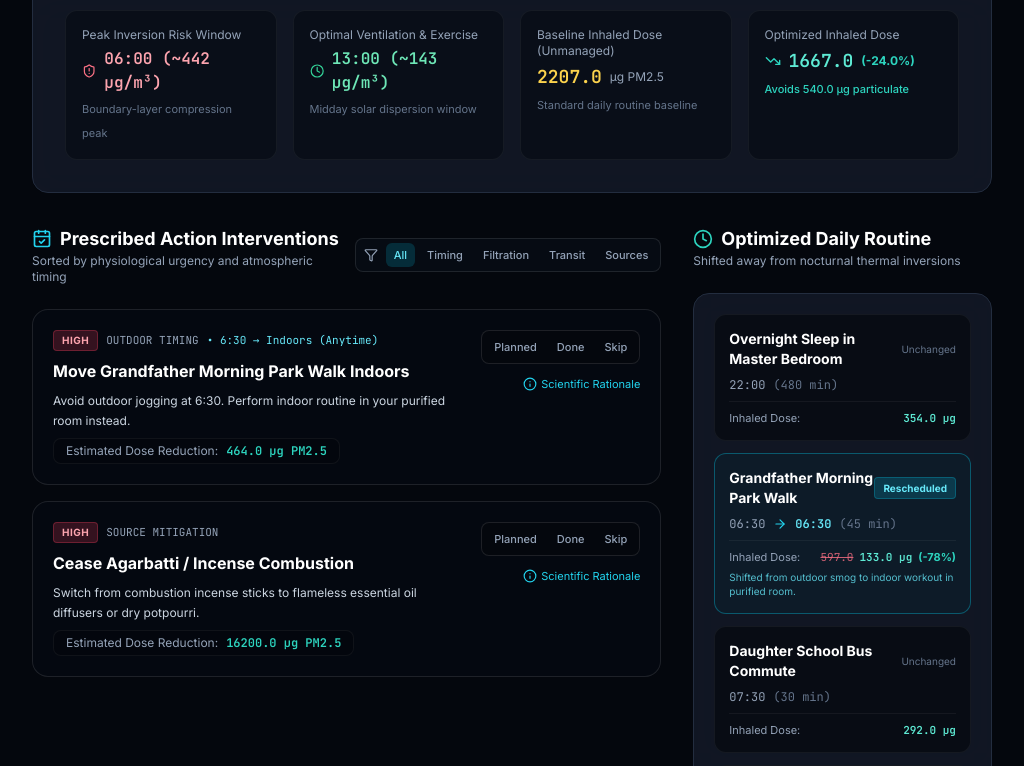
Full Workbench & UI Interaction Coverage › PlannerWorkbench filters recommendations, expands Scientific Rationale, and marks Done
The width and height of the screenshot is (1024, 766).
Later steps or results of the test are not shown.
Click the button "Scientific Rationale" below "Indoors (Anytime)" at {"x": 582, "y": 384}, box [523,376,640,392]
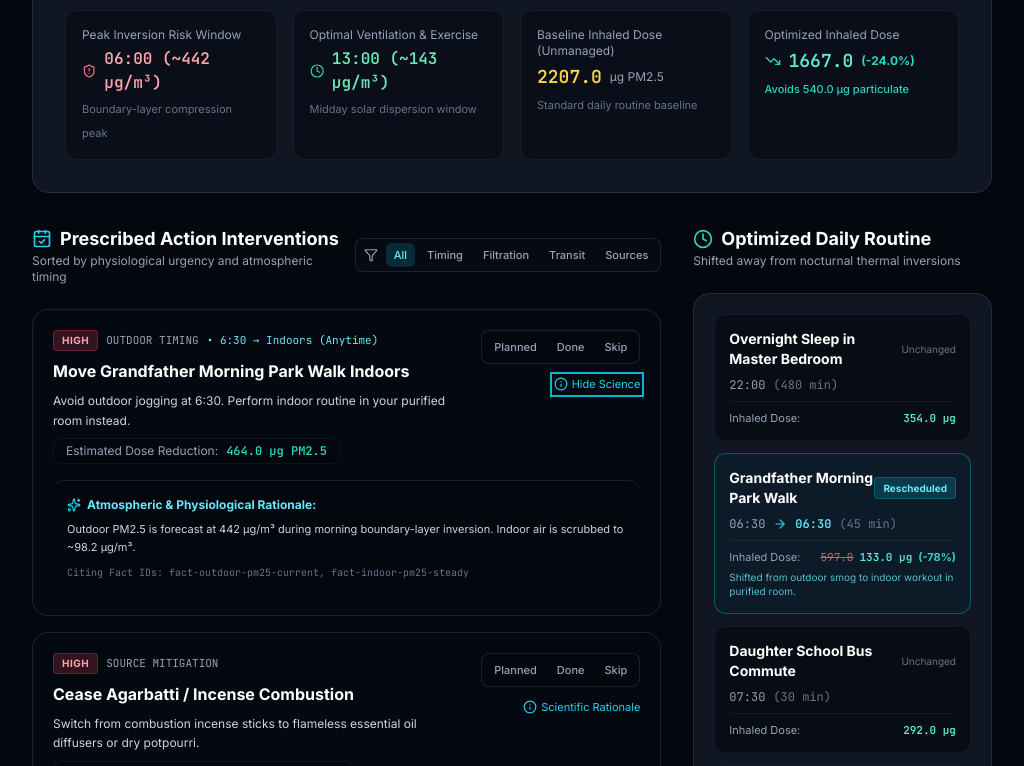
Now the text "Atmospheric & Physiological Rationale:" is shown, box [87,497,316,513]
